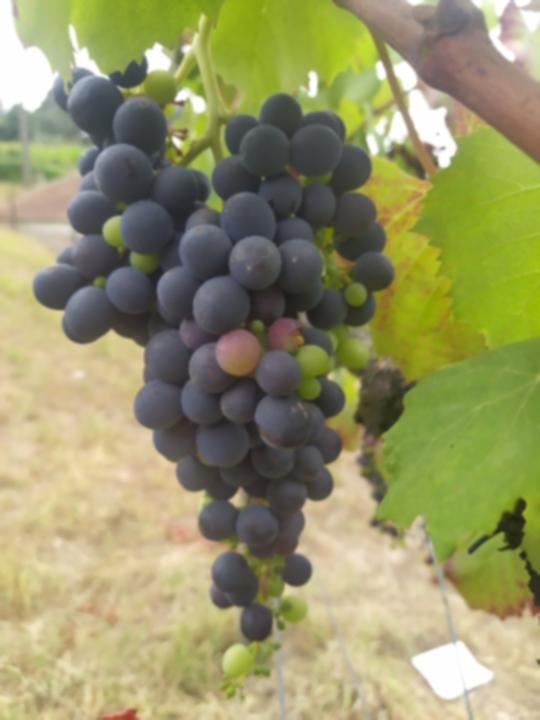grape: (26, 51, 395, 707)
